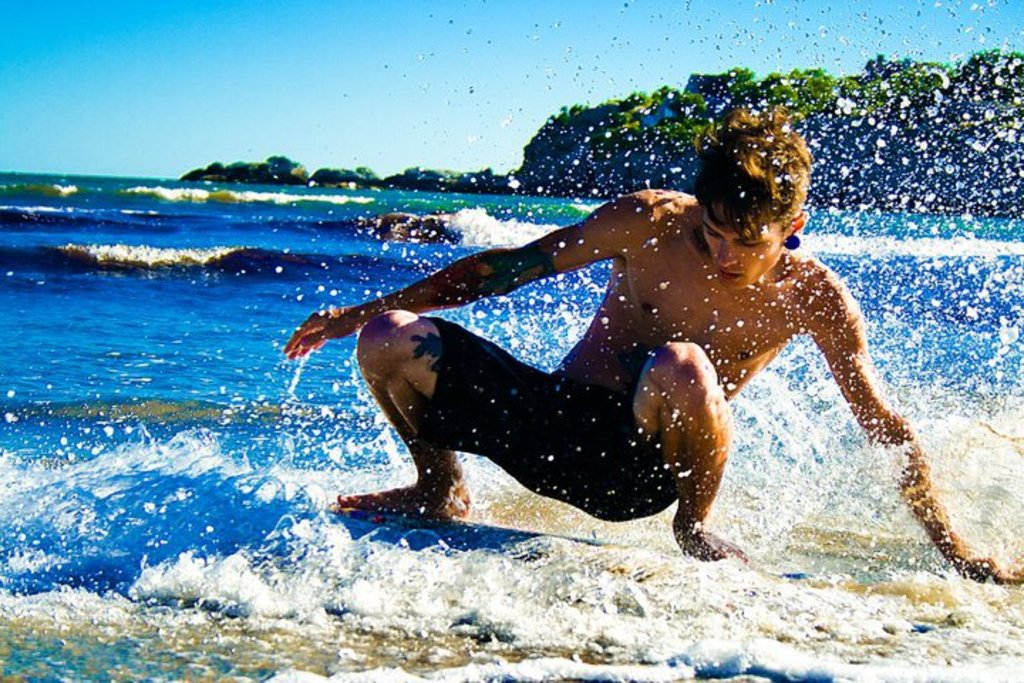face: (700, 195, 797, 280)
